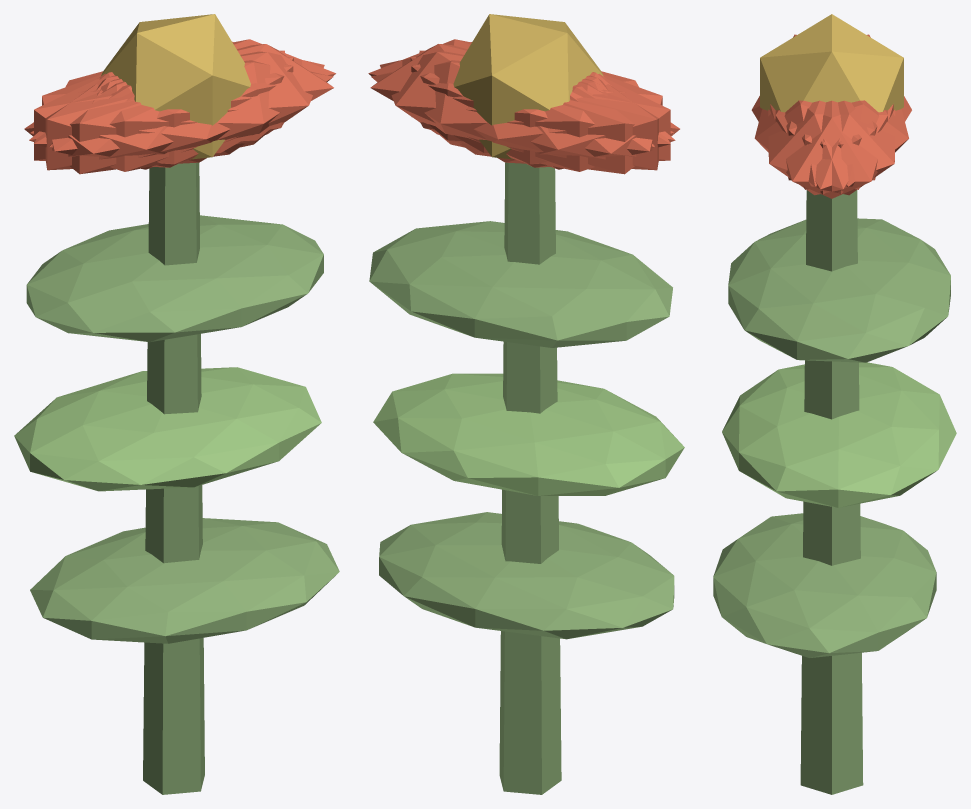
The model's file is chlorophytum-laxum.glb.
3 renders of one model, left to right at view 1: azimuth 30°, elevation 25°; view 2: azimuth 150°, elevation 25°; view 3: azimuth 270°, elevation 25°, orthographic.
Visible parts, largest first — view 1: leaf0, leaf1, leaf2, stem, center, petal1, petal6, petal2, petal5, petal7, petal0, petal4 (+2 smaller); view 2: leaf2, leaf1, leaf0, stem, center, petal8, petal3, petal7, petal4, petal2, petal0, petal5 (+2 smaller); view 3: leaf2, leaf1, leaf0, stem, center, petal0, petal4, petal5, petal1, petal8.
Boxes of the visible parts, <box> form: leaf0: <box>30,518,339,643</box>; leaf1: <box>14,367,321,491</box>; leaf2: <box>26,215,323,342</box>; stem: <box>143,162,204,794</box>; center: <box>101,14,250,159</box>; petal1: <box>29,60,333,171</box>; petal6: <box>24,73,244,174</box>; petal2: <box>45,50,284,170</box>; petal5: <box>49,51,324,164</box>; petal7: <box>34,57,293,167</box>; petal0: <box>100,44,333,153</box>; petal4: <box>30,39,335,144</box>; leaf2: <box>369,221,672,347</box>; leaf1: <box>373,373,684,495</box>; leaf0: <box>379,512,674,639</box>; stem: <box>499,162,561,794</box>; center: <box>453,14,603,159</box>; petal8: <box>371,60,675,171</box>; petal3: <box>460,73,679,174</box>; petal7: <box>419,50,658,170</box>; petal4: <box>380,51,654,164</box>; petal2: <box>410,57,670,167</box>; petal0: <box>370,44,603,153</box>; petal5: <box>368,39,673,144</box>; leaf2: <box>728,218,950,362</box>; leaf1: <box>722,362,956,507</box>; leaf0: <box>713,513,936,657</box>; stem: <box>800,190,863,794</box>; center: <box>760,14,903,112</box>; petal0: <box>770,100,893,198</box>; petal4: <box>775,100,895,195</box>; petal5: <box>768,100,887,195</box>; petal1: <box>754,100,877,186</box>; petal8: <box>786,100,908,186</box>.
Size of the model in its own units: 0.1452 by 0.3514 by 0.1037.
